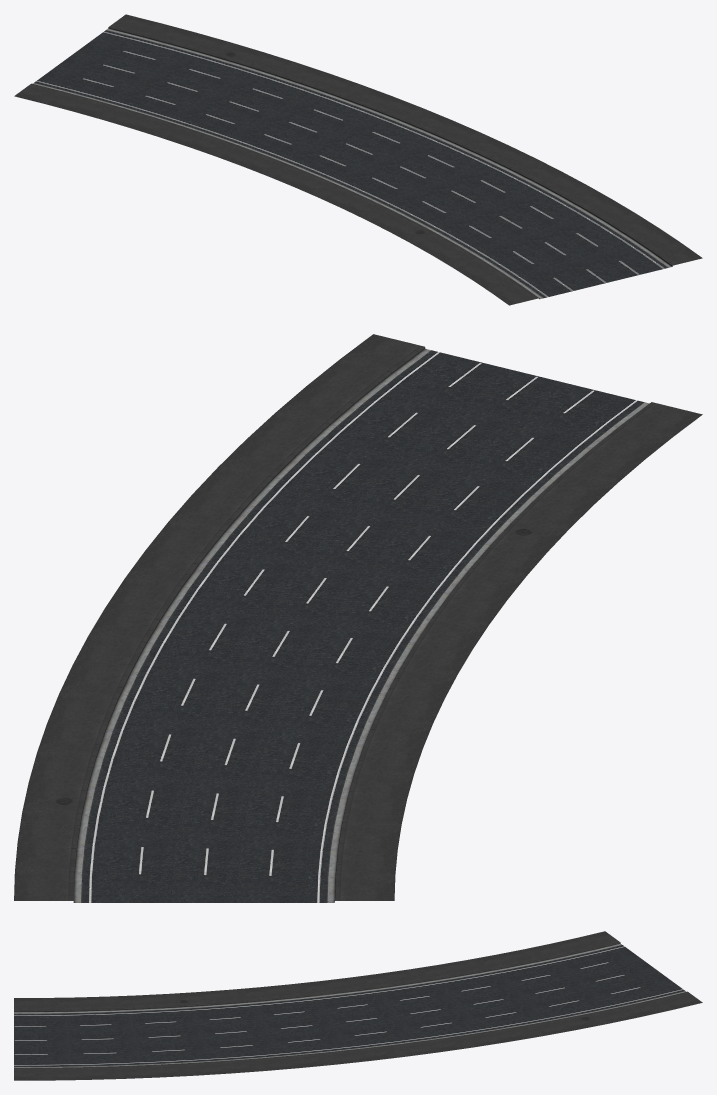
File: city_road_4ways_30left.fbx
3 renders of one model, top to bottom at view 1: azimuth 30°, elevation 25°; view 2: azimuth 150°, elevation 25°; view 3: azimuth 270°, elevation 25°, orthographic. The views are drawn at different scales.
Visible parts, largest first — view 1: obj0; view 2: obj0; view 3: obj0.
Boxes of the visible parts, <box> form: obj0: <box>14,14,702,305</box>; obj0: <box>14,334,702,902</box>; obj0: <box>14,931,702,1080</box>.
Bounding box in the file's own units: 80.47 × 0.254 × 157.
